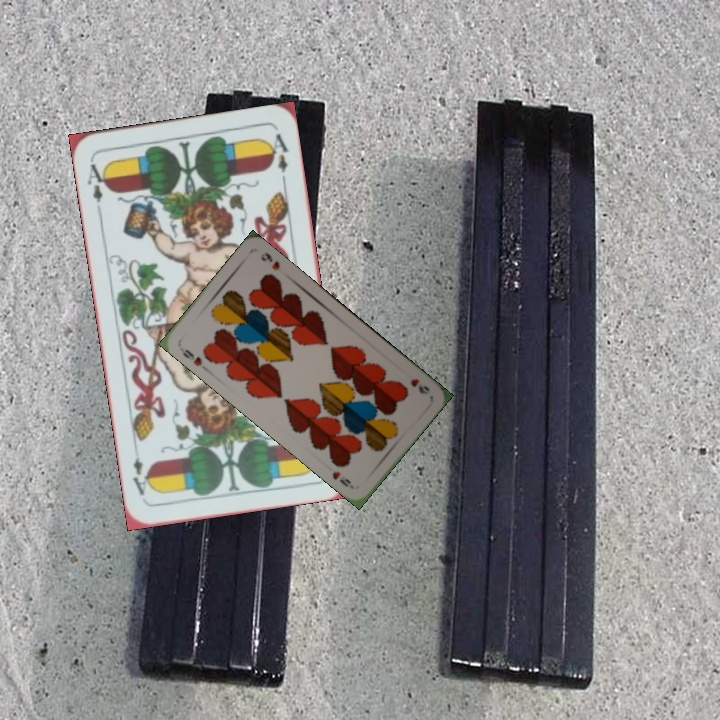EA: (83, 160, 111, 205)
H9: (179, 345, 204, 369), (407, 374, 432, 397)
